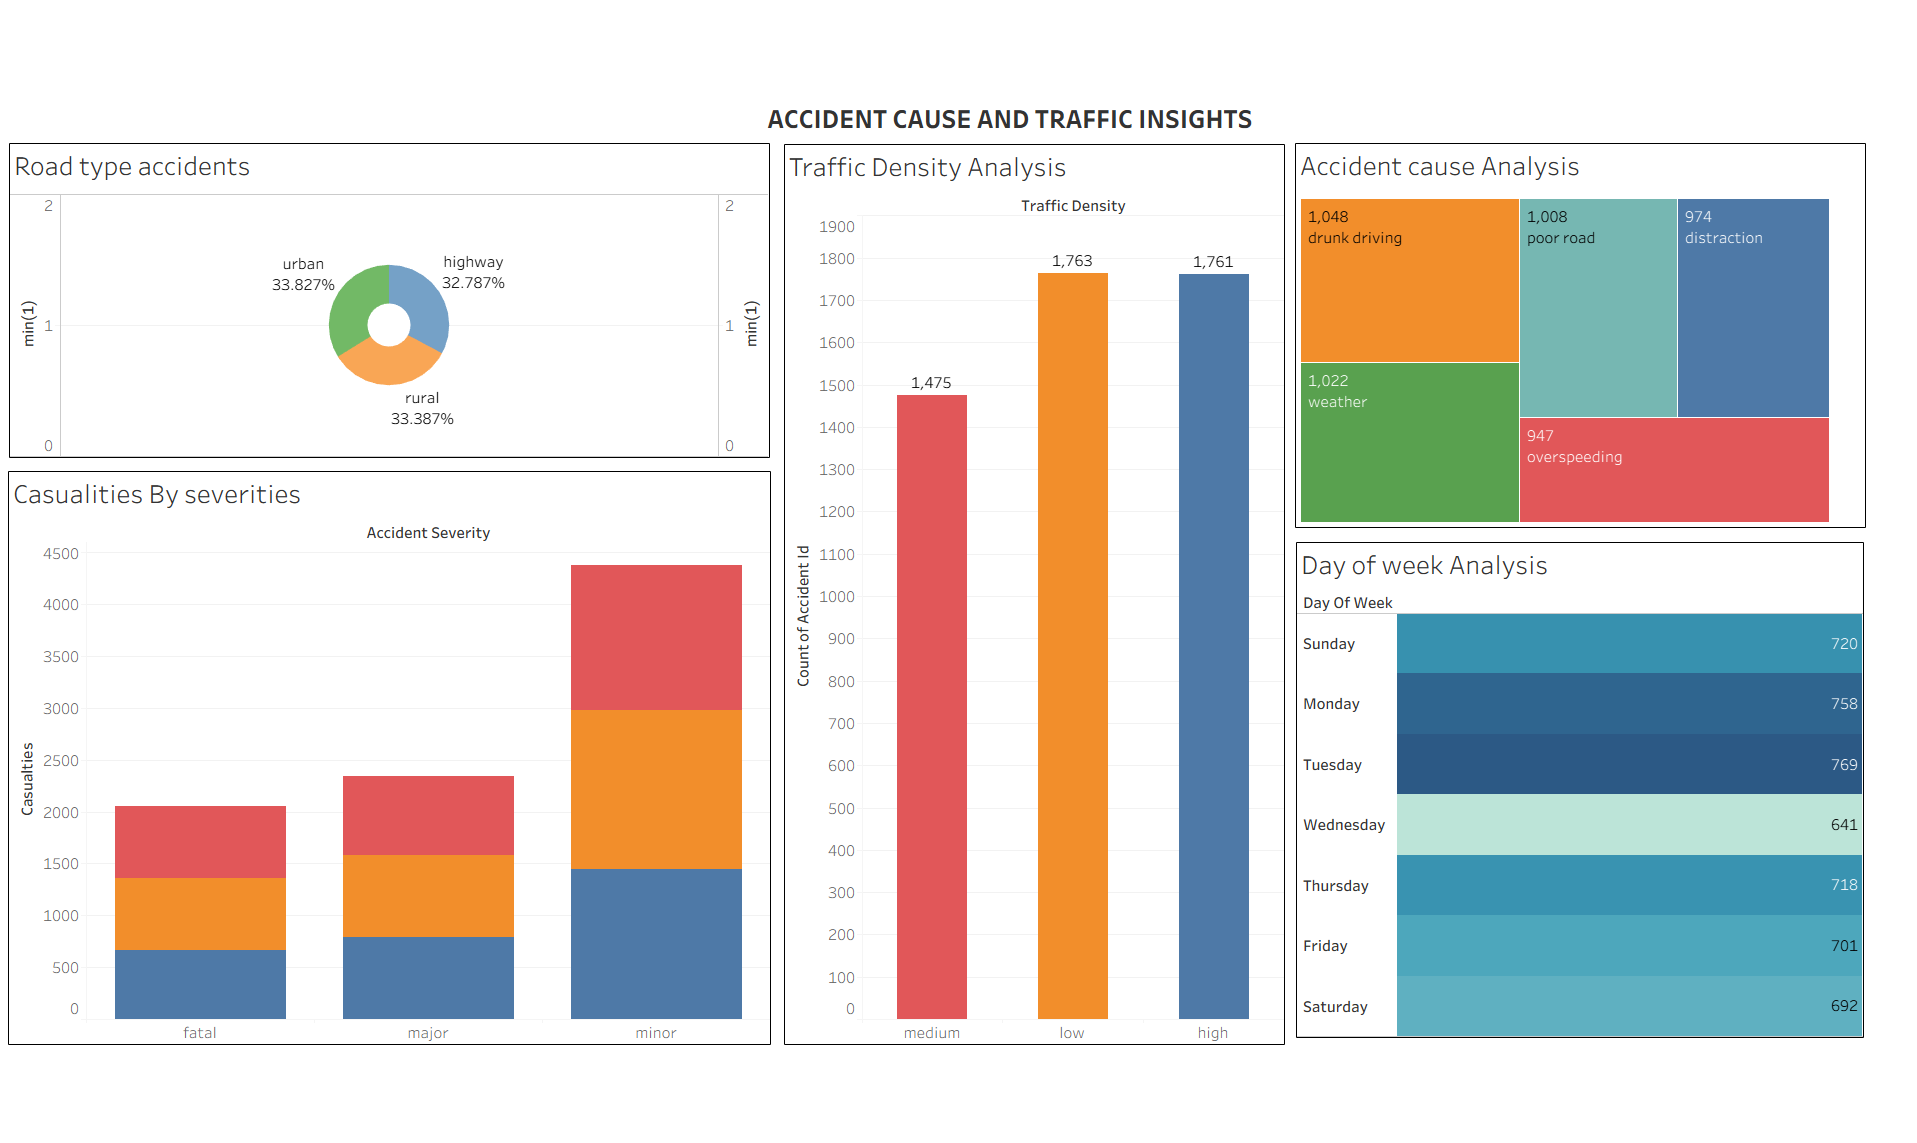

The dashboard page shown, as its layout file describes it:
{"tool":"tableau","page":{"name":"Dashboard 2","canvas":[2020,960],"ordinal":1},"visuals":[{"type":"title","box":[8,8,2004,42]},{"type":"worksheet","title":"Road type accidents","mark":"Pie","rows":["Calculation_1066820488785929","Calculation_1066820488826891"],"box":[9,54,761,315]},{"type":"worksheet","title":"Accident cause Analysis","mark":"Automatic","box":[1295,54,571,385]},{"type":"worksheet","title":"Traffic Density Analysis","mark":"Automatic","rows":["accident_id"],"cols":["traffic_density"],"box":[784,55,501,901]},{"type":"worksheet","title":"Casualities By severities","mark":"Automatic","rows":["casualties"],"cols":["accident_severity"],"box":[8,382,763,574]},{"type":"worksheet","title":"Day of week Analysis","mark":"Square","rows":["day_of_week"],"box":[1296,453,568,496]}]}

Visuals, with their boxes on the page's 2020x960 design canvas (x1, y1, x2, y2). These are canvas units, not pixel positions in the 1917x1143 screenshot, which may show the page scaled, cropped or inside an application window:
title: [8,8,2012,50]
"Road type accidents" worksheet (Pie marks): [9,54,770,369]
"Accident cause Analysis" worksheet: [1295,54,1866,439]
"Traffic Density Analysis" worksheet: [784,55,1285,956]
"Casualities By severities" worksheet: [8,382,771,956]
"Day of week Analysis" worksheet (Square marks): [1296,453,1864,949]
